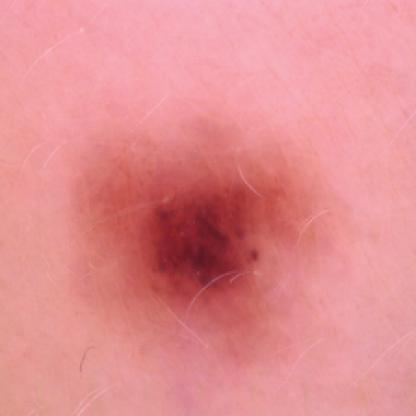benign: (141, 165, 277, 292)
